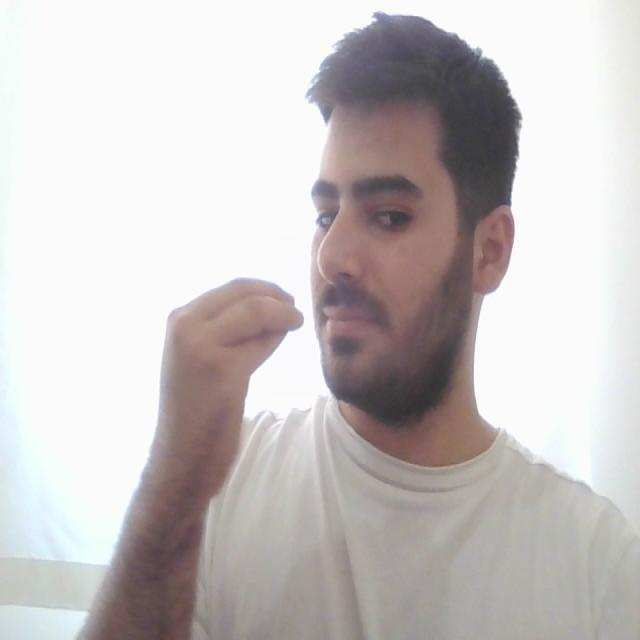Yemek: (164, 274, 368, 359)
